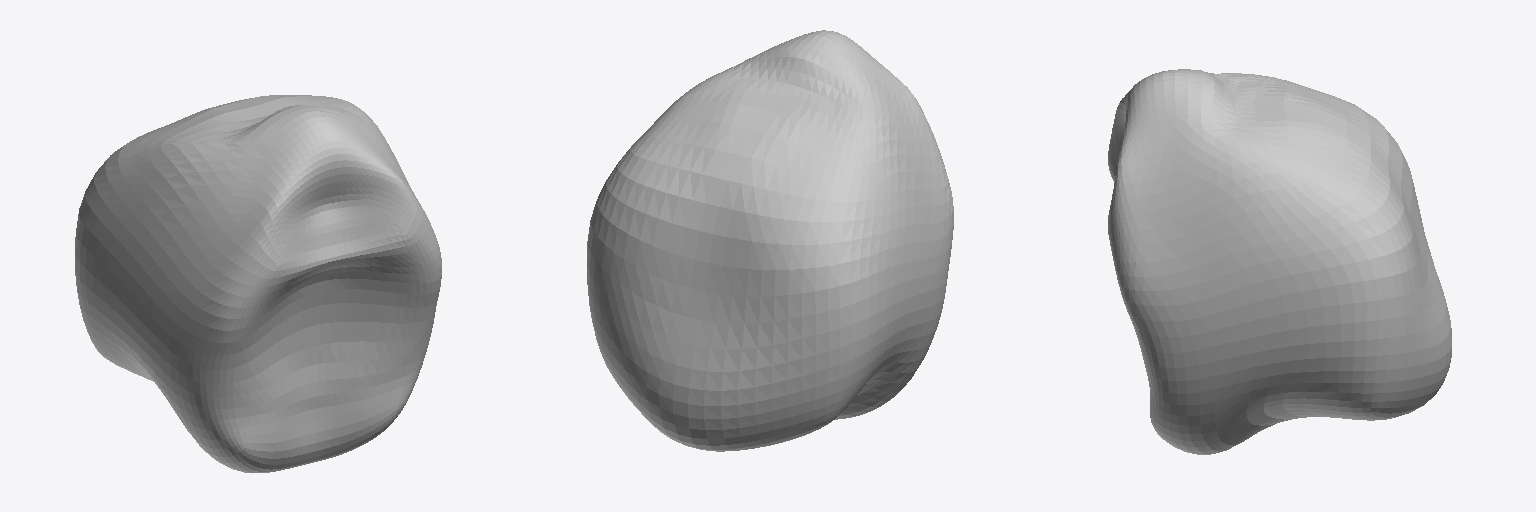
The model's file is vertabrae10.obj.
3 views of the same model, side by side, from view 1: azimuth 30°, elevation 25°; view 2: azimuth 150°, elevation 25°; view 3: azimuth 270°, elevation 25° (orthographic).
Parts seen in each view (by area): view 1: Cube.104_Cube.106; view 2: Cube.104_Cube.106; view 3: Cube.104_Cube.106.
Boxes of the visible parts, <box> form: Cube.104_Cube.106: <box>75,95,441,472</box>; Cube.104_Cube.106: <box>587,30,953,451</box>; Cube.104_Cube.106: <box>1108,69,1451,454</box>.
Size of the model in its own units: 0.0753 by 0.0933 by 0.0802.